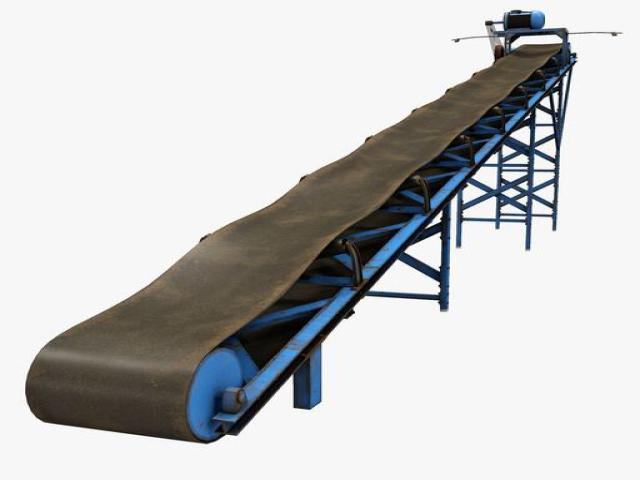conveyor: (21, 28, 580, 446)
